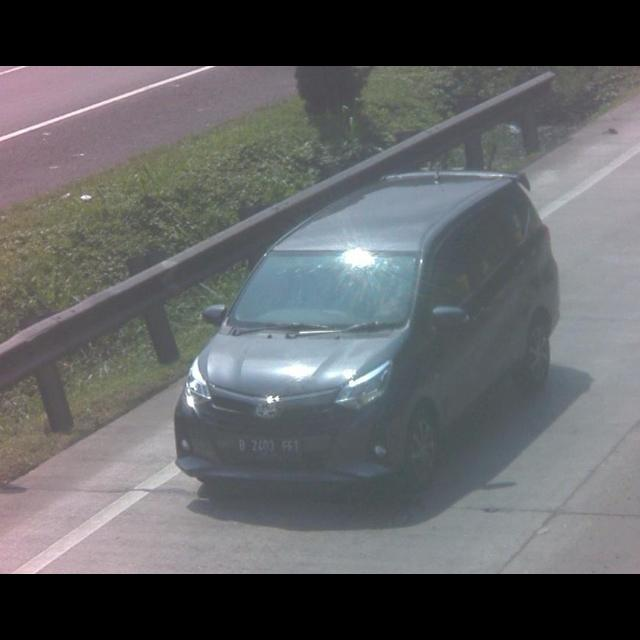plate: (236, 436, 302, 462)
